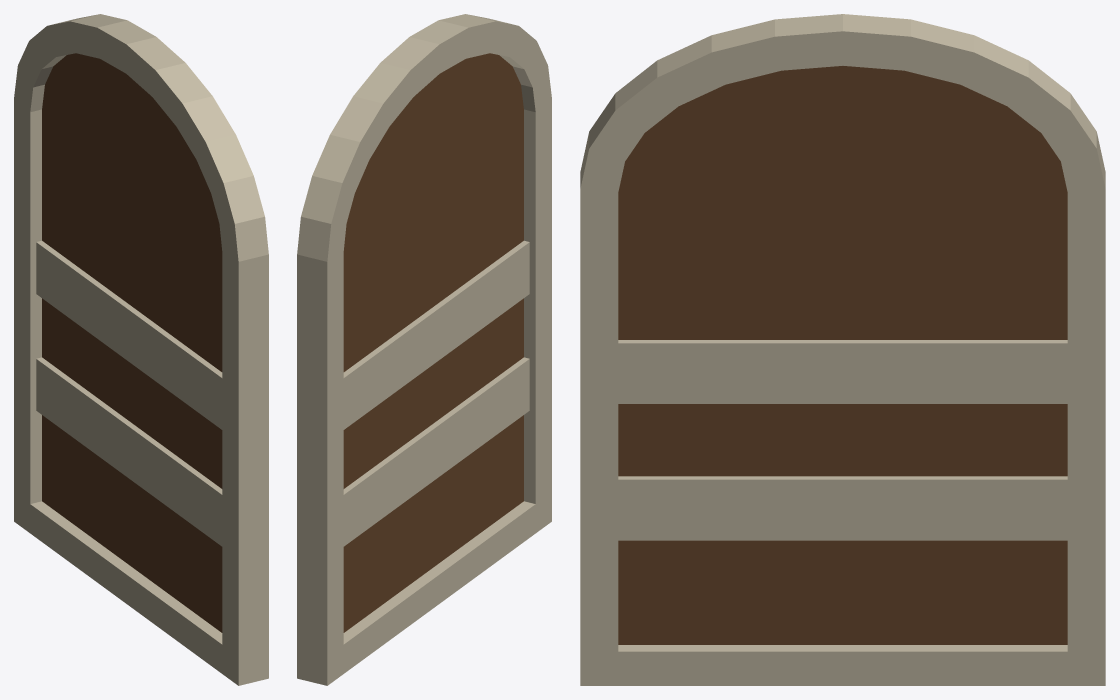
The model's file is gate.glb.
3 views of the same model, side by side, from view 1: azimuth 30°, elevation 25°; view 2: azimuth 150°, elevation 25°; view 3: azimuth 270°, elevation 25° (orthographic). The views are drawn at different scales.
Parts seen in each view (by area): view 1: mesh_0, mesh_1; view 2: mesh_0, mesh_1; view 3: mesh_1, mesh_0.
Boxes of the visible parts, <box> form: mesh_0: <box>14,14,268,685</box>; mesh_1: <box>42,53,222,632</box>; mesh_0: <box>297,14,551,685</box>; mesh_1: <box>343,53,523,632</box>; mesh_1: <box>618,66,1067,644</box>; mesh_0: <box>580,14,1105,685</box>.
Bounding box in the file's own units: 0.516 × 9.1 × 6.62.
